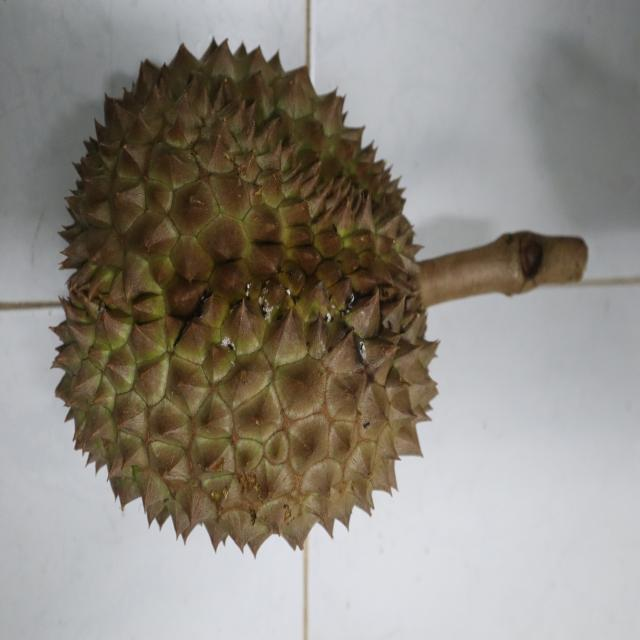mature: (51, 31, 441, 560)
